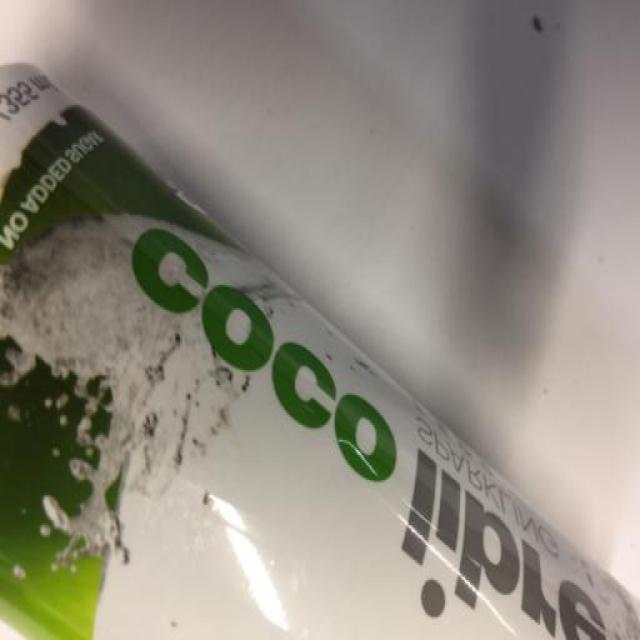Plastic: (0, 58, 640, 640)
